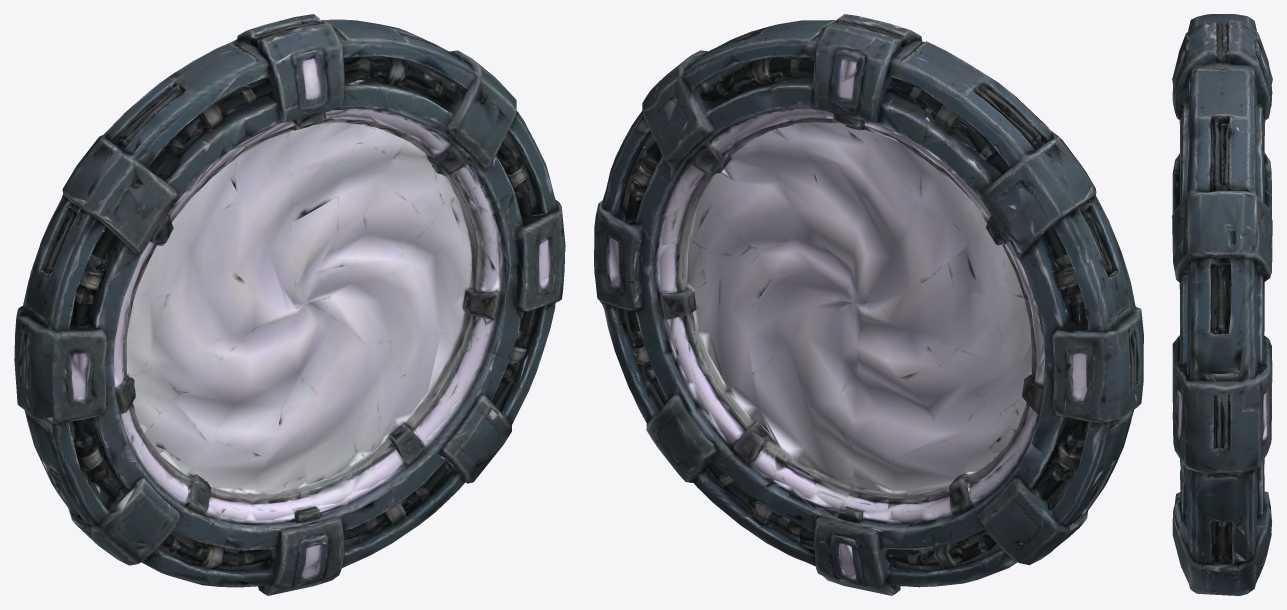
The model's file is teleporter-ring.glb.
3 views of the same model, side by side, from view 1: azimuth 30°, elevation 25°; view 2: azimuth 150°, elevation 25°; view 3: azimuth 270°, elevation 25° (orthographic). The views are drawn at different scales.
Size of the model in its own units: 1.9 by 1.9 by 0.32.
1 material, 1 textured.
